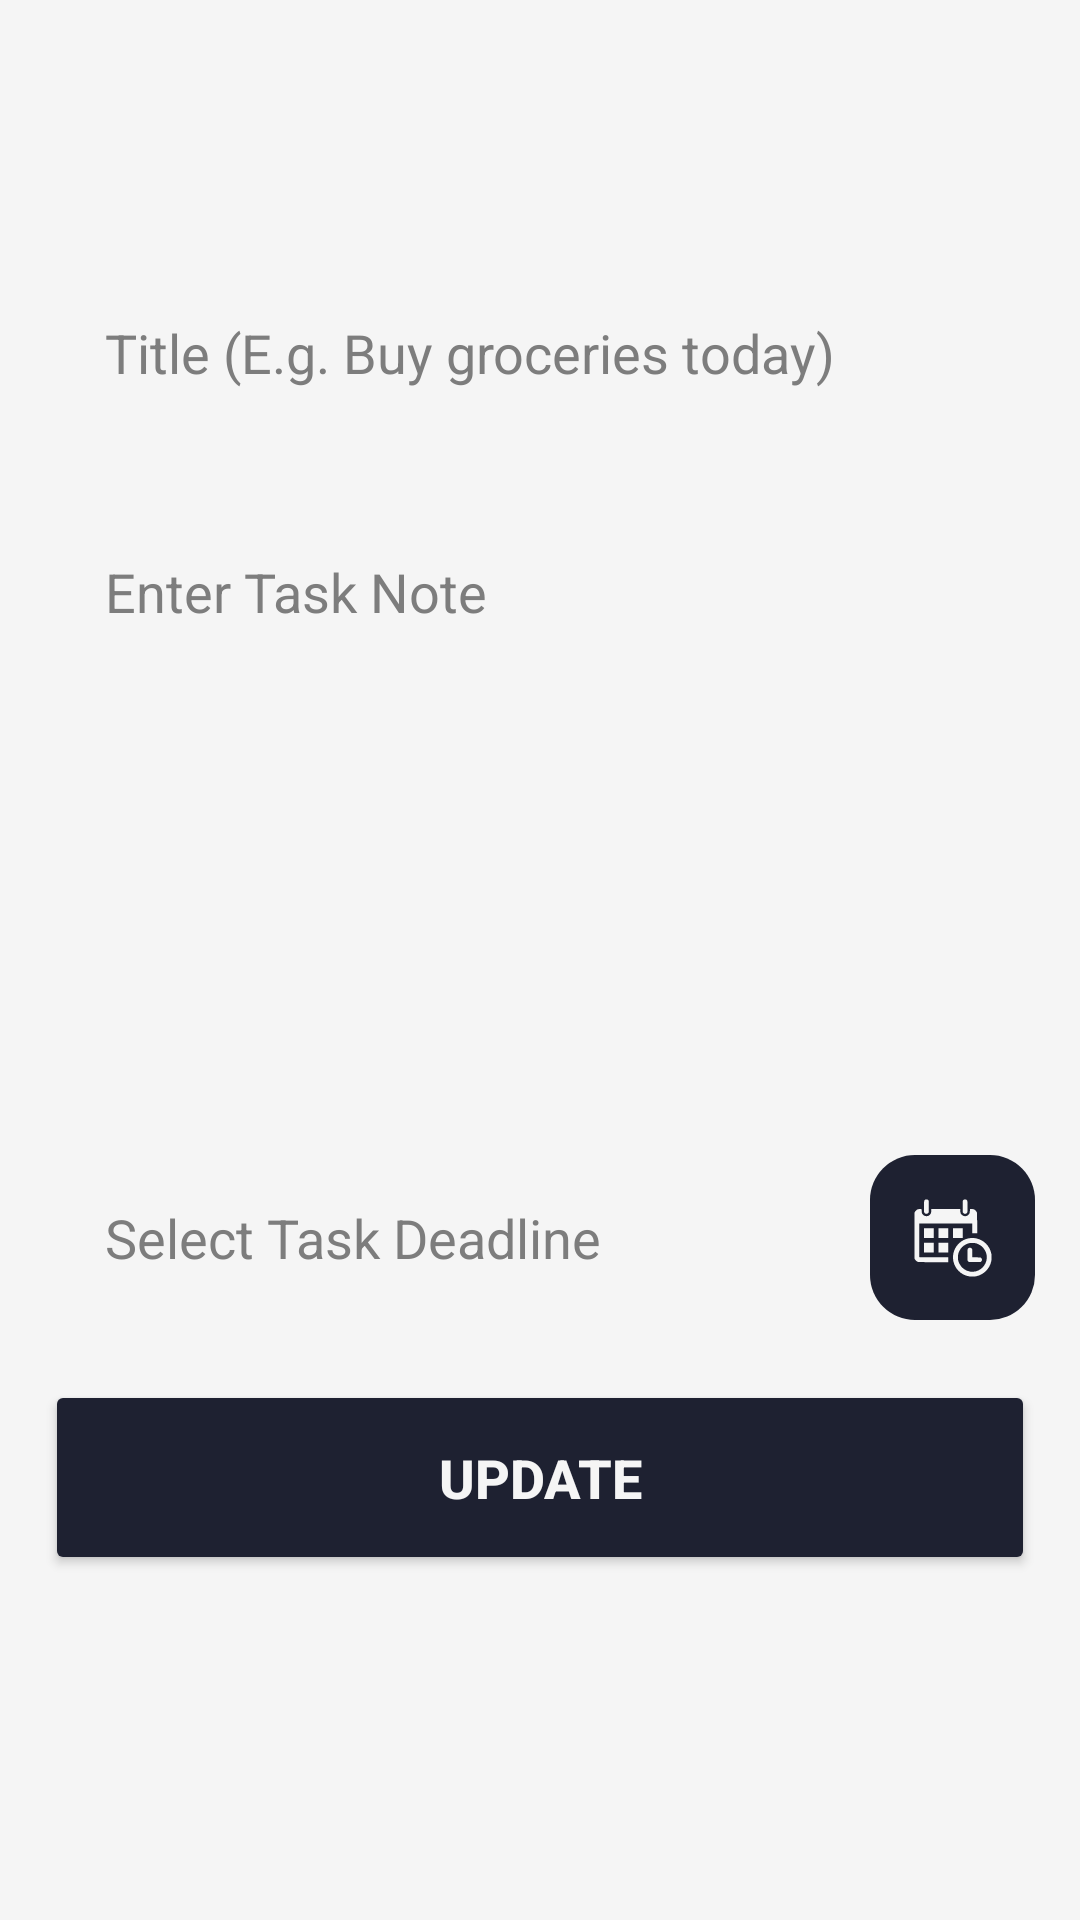

Icon click points for this 1080*1920 phone screenshot, format [x,y]:
calendar time: [952,1237]
